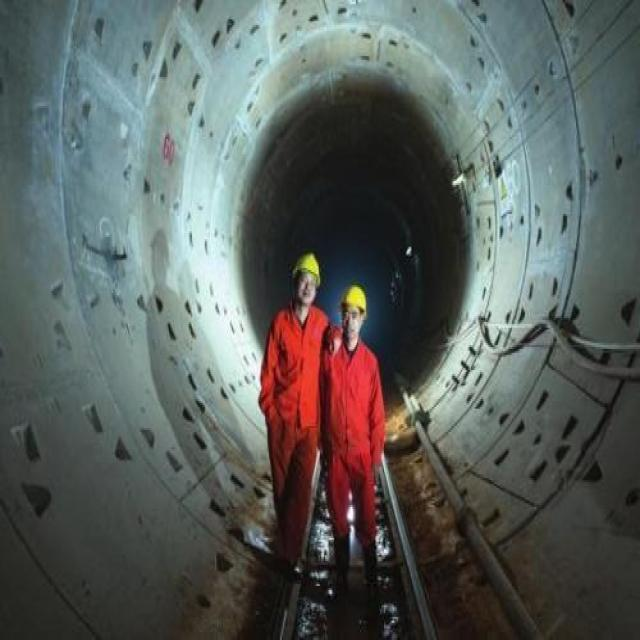hat: (337, 284, 367, 344), (292, 255, 320, 312)
